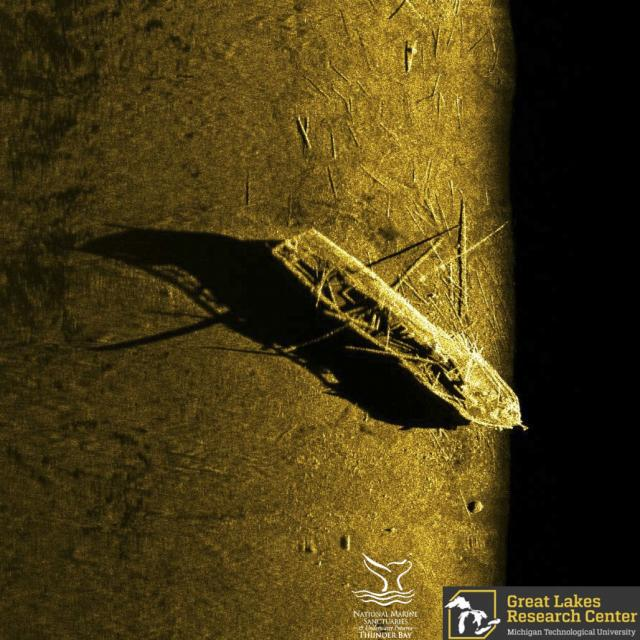ship: (265, 225, 539, 434)
